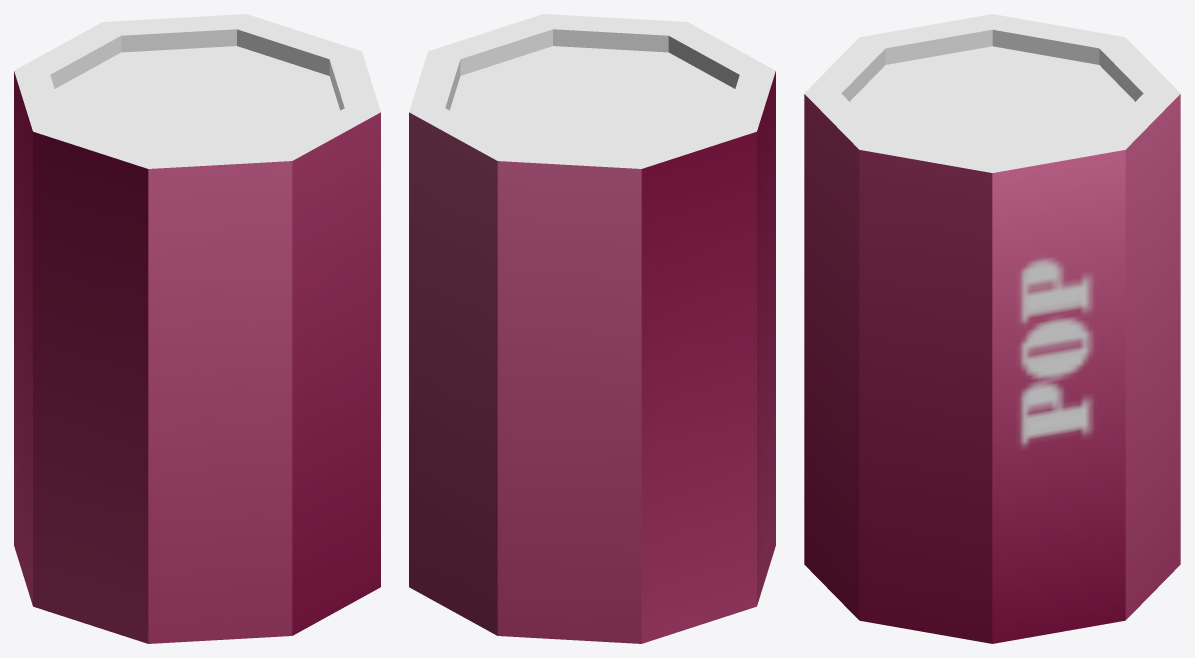
Rendered from Soda4.obj.
The picture shows the model from 3 angles, left to right: view 1: azimuth 30°, elevation 25°; view 2: azimuth 150°, elevation 25°; view 3: azimuth 270°, elevation 25°; orthographic projection.
Visible parts, largest first — view 1: Soda4_Cylinder.004; view 2: Soda4_Cylinder.004; view 3: Soda4_Cylinder.004.
Part boxes in pixels (x1,y1,x2,y2): Soda4_Cylinder.004: (14, 14, 380, 643); Soda4_Cylinder.004: (409, 14, 775, 643); Soda4_Cylinder.004: (804, 14, 1180, 643).
Size of the model in its own units: 0.1974 by 0.2724 by 0.1974.
